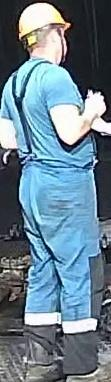helmet: (17, 2, 66, 41)
